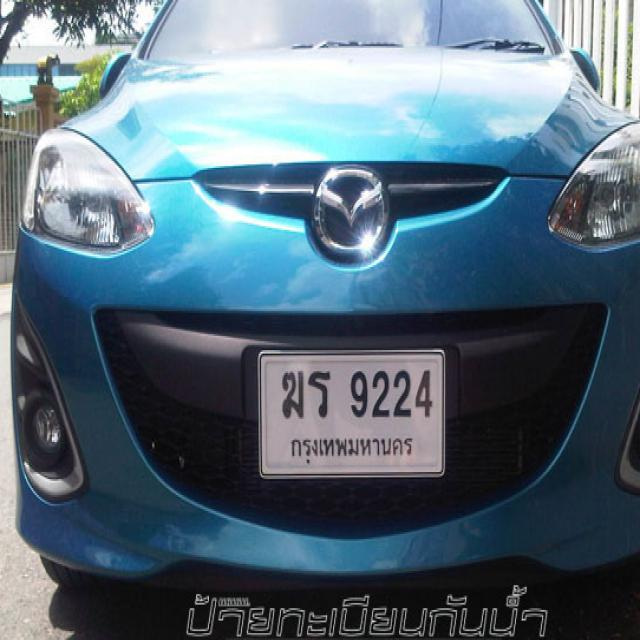license_plate: (256, 347, 448, 477)
